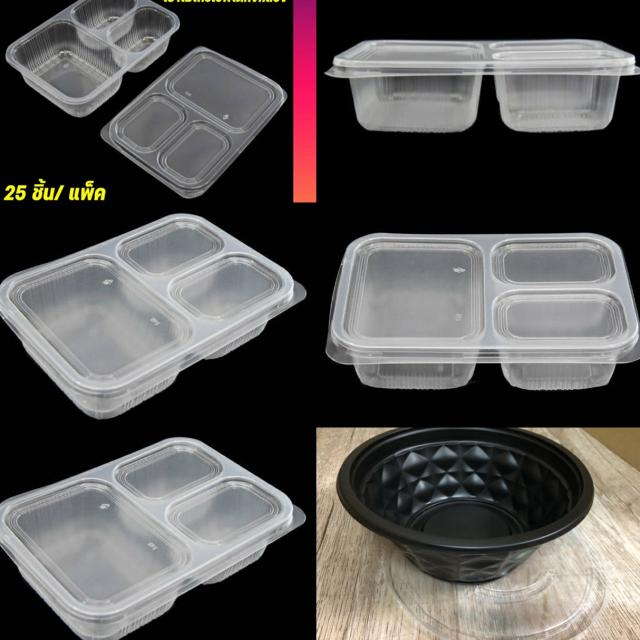plastik: (0, 215, 306, 418), (0, 438, 305, 640), (326, 233, 640, 389), (336, 428, 594, 581), (327, 39, 640, 132), (102, 47, 286, 198), (385, 530, 608, 640), (5, 0, 179, 117)
